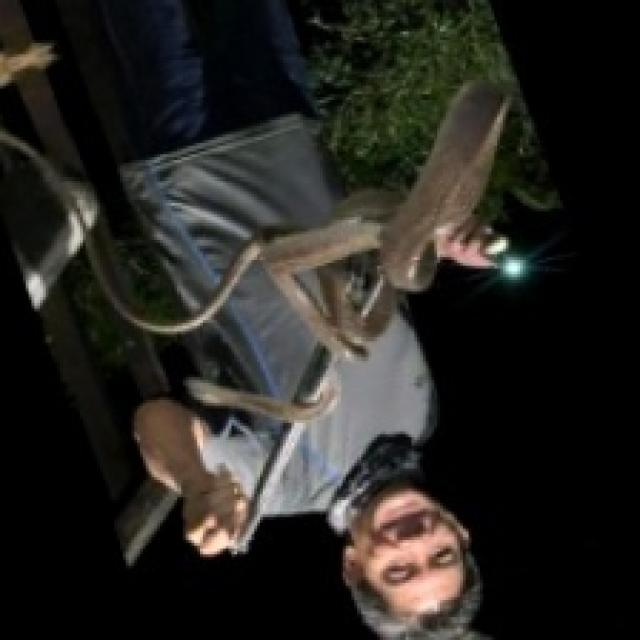philippine cat snake: (0, 83, 506, 426)
